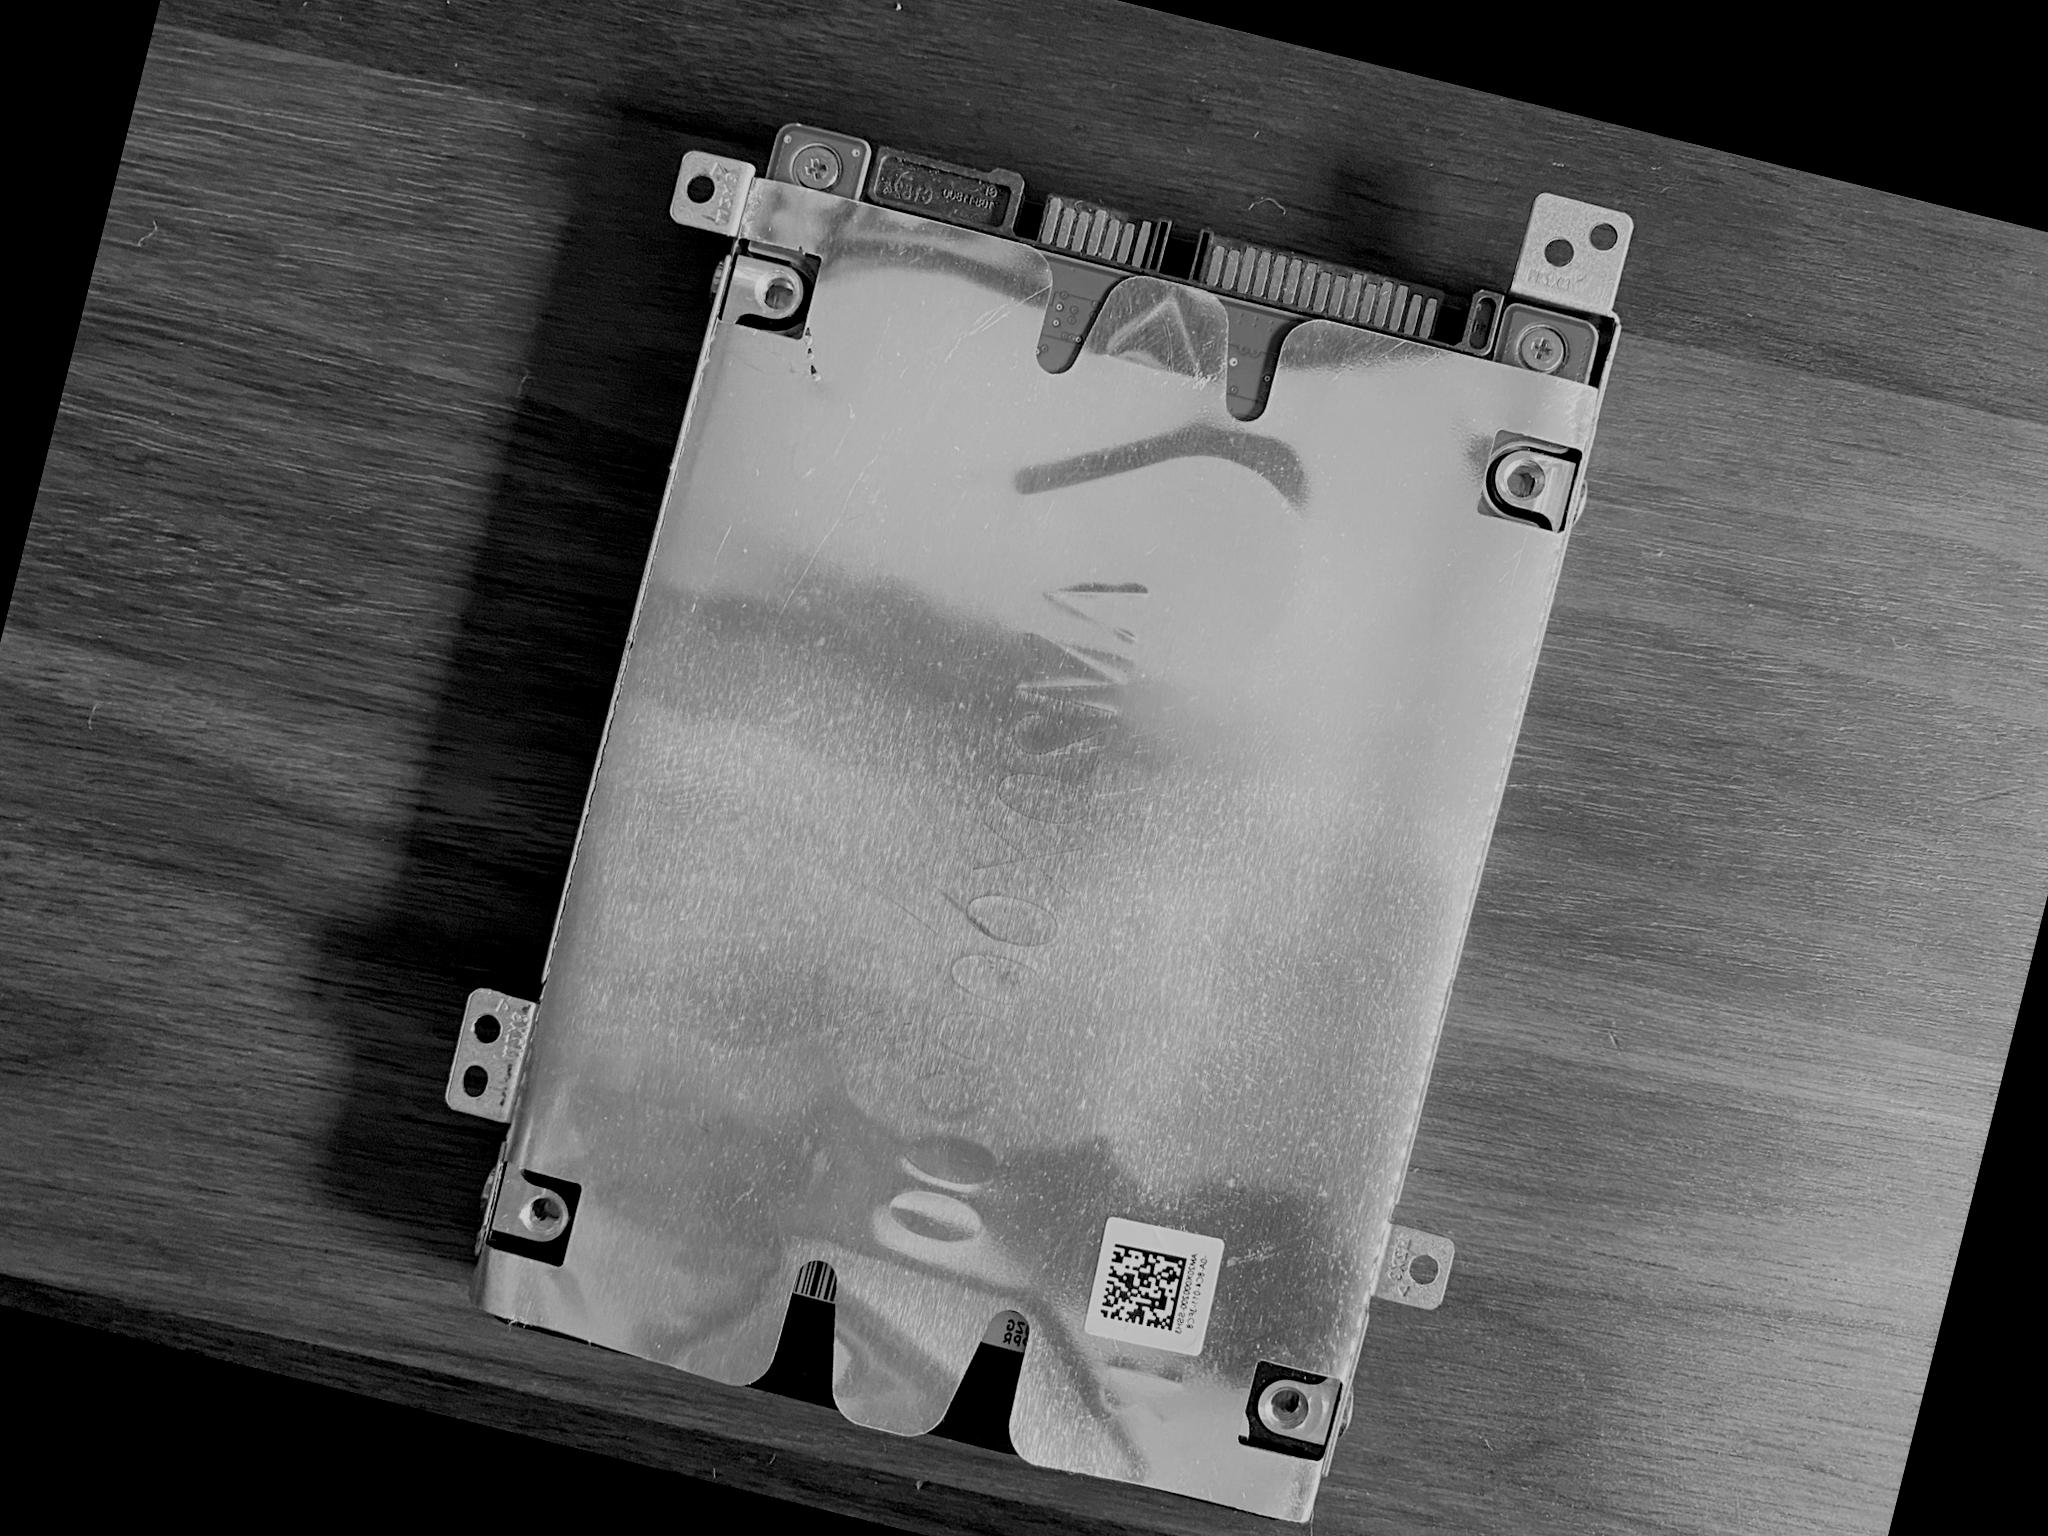philips-PZ: (790, 137, 848, 197), (1513, 321, 1572, 376)
